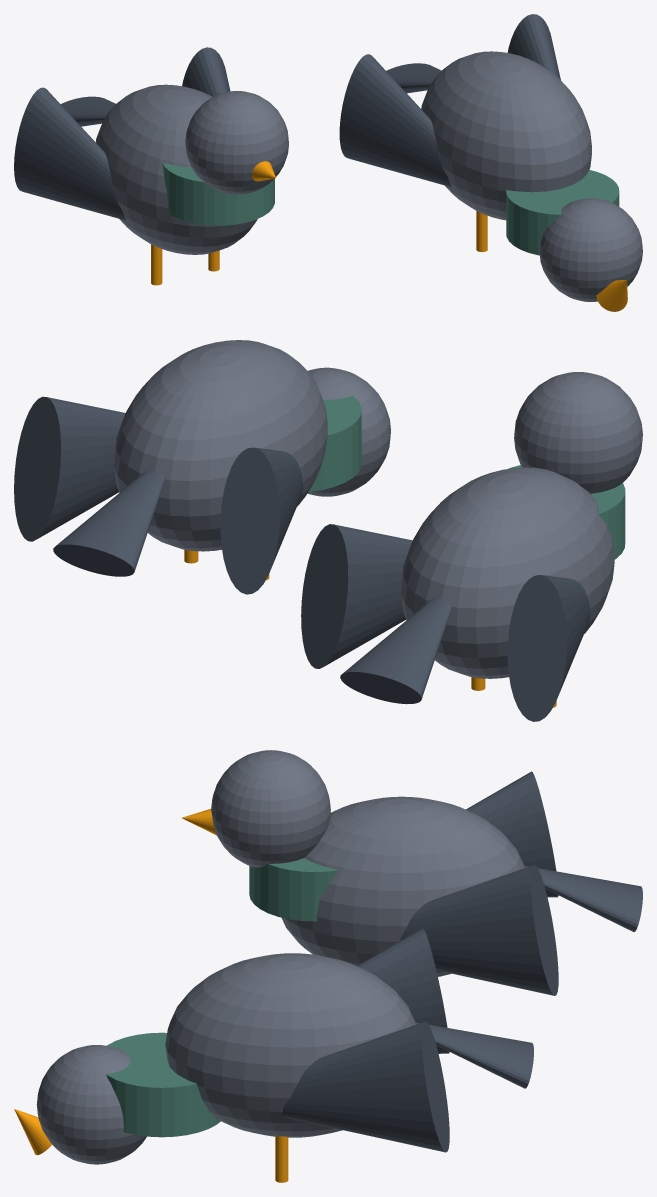
File: pigeon-pair.glb
3 renders of one model, top to bottom at view 1: azimuth 30°, elevation 25°; view 2: azimuth 150°, elevation 25°; view 3: azimuth 270°, elevation 25°, orthographic. The views are drawn at different scales.
Visible parts, largest first — view 1: Sphere.004, Sphere, Cone.005, Cone.001, Sphere.001, Sphere.005, Cylinder, Cylinder.003, Cone.006, Cone.002, Cone.003, Cone.007 (+3 smaller); view 2: Sphere.004, Sphere, Sphere.001, Cone.002, Cone.006, Cone.001, Cone.005, Cone.003, Cone.007, Sphere.005, Cylinder.003, Cylinder; view 3: Sphere.004, Sphere, Cone.006, Cone.002, Sphere.001, Sphere.005, Cylinder.003, Cone.001, Cone.005, Cylinder, Cone.007, Cone.003 (+2 smaller).
Boxes of the visible parts, x1=… form: Sphere.004: x1=421, y1=51, x2=591, y2=220; Sphere: x1=95, y1=84, x2=257, y2=254; Cone.005: x1=339, y1=54, x2=451, y2=186; Cone.001: x1=14, y1=87, x2=125, y2=220; Sphere.001: x1=185, y1=91, x2=288, y2=194; Sphere.005: x1=539, y1=198, x2=642, y2=301; Cylinder: x1=162, y1=162, x2=274, y2=225; Cylinder.003: x1=506, y1=170, x2=619, y2=255; Cone.006: x1=507, y1=14, x2=560, y2=79; Cone.002: x1=182, y1=47, x2=230, y2=96; Cone.003: x1=60, y1=96, x2=115, y2=126; Cone.007: x1=386, y1=63, x2=441, y2=93; Sphere.004: x1=114, y1=340, x2=327, y2=551; Sphere: x1=401, y1=467, x2=614, y2=678; Sphere.001: x1=514, y1=372, x2=642, y2=493; Cone.002: x1=301, y1=524, x2=412, y2=668; Cone.006: x1=14, y1=396, x2=125, y2=541; Cone.001: x1=507, y1=575, x2=590, y2=721; Cone.005: x1=220, y1=447, x2=303, y2=594; Cone.003: x1=340, y1=598, x2=452, y2=704; Cone.007: x1=53, y1=470, x2=165, y2=576; Sphere.005: x1=307, y1=367, x2=390, y2=496; Cylinder.003: x1=308, y1=395, x2=361, y2=492; Cylinder: x1=508, y1=465, x2=625, y2=559; Sphere.004: x1=165, y1=953, x2=415, y2=1137; Sphere: x1=281, y1=796, x2=524, y2=976; Cone.006: x1=282, y1=1021, x2=449, y2=1152; Cone.002: x1=400, y1=865, x2=558, y2=995; Sphere.001: x1=211, y1=750, x2=330, y2=867; Sphere.005: x1=36, y1=1045, x2=146, y2=1164; Cylinder.003: x1=106, y1=1032, x2=220, y2=1137; Cone.001: x1=466, y1=771, x2=558, y2=897; Cone.005: x1=357, y1=928, x2=449, y2=1053; Cylinder: x1=249, y1=858, x2=338, y2=921; Cone.007: x1=415, y1=1022, x2=533, y2=1088; Cone.003: x1=524, y1=865, x2=642, y2=931.
Bounding box in the file's own units: 0.5993 × 0.255 × 0.5774.
